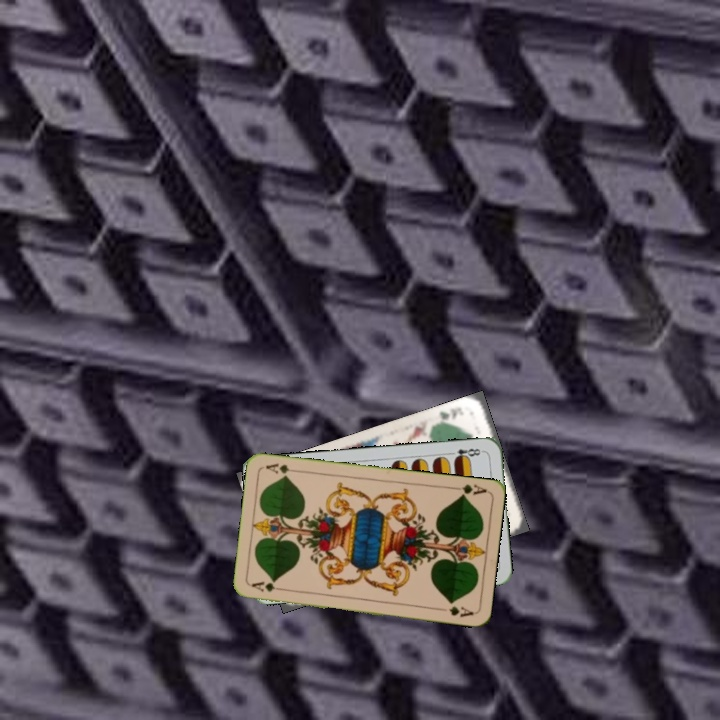E8: (445, 444, 486, 463)
GA: (448, 480, 489, 500), (247, 578, 288, 594)
GK: (434, 402, 466, 427)
